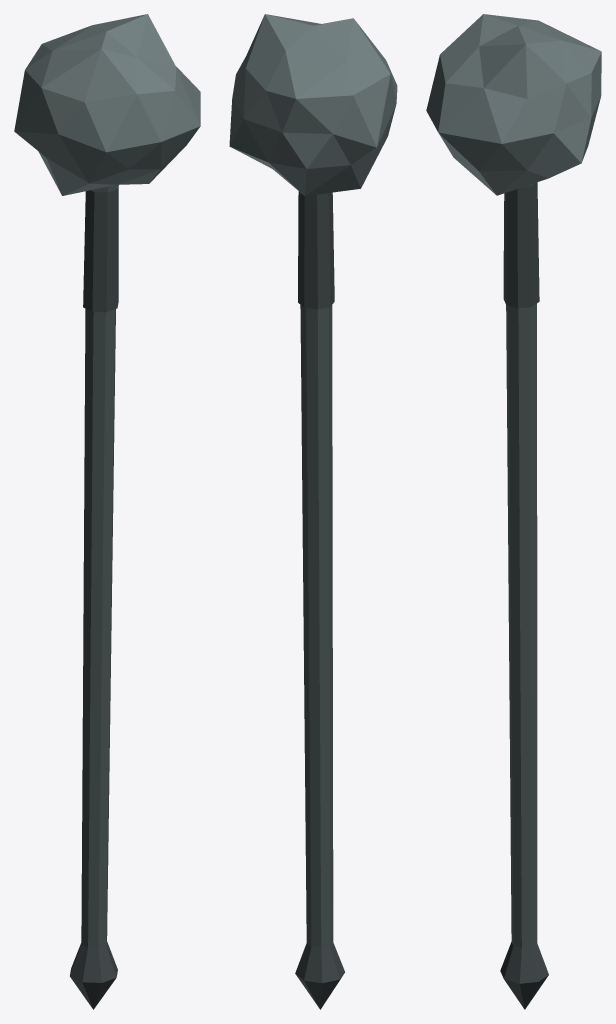
The model's file is Mace2.fbx.
3 renders of one model, left to right at view 1: azimuth 30°, elevation 25°; view 2: azimuth 150°, elevation 25°; view 3: azimuth 270°, elevation 25°, orthographic.
Parts seen in each view (by area): view 1: Icosphere.004; view 2: Icosphere.004; view 3: Icosphere.004.
Part boxes in pixels (<box>): Icosphere.004: <box>14,14,200,1009</box>; Icosphere.004: <box>229,14,397,1009</box>; Icosphere.004: <box>426,14,601,1009</box>.
Bounding box in the file's own units: 0.2875 × 0.2643 × 1.65.
